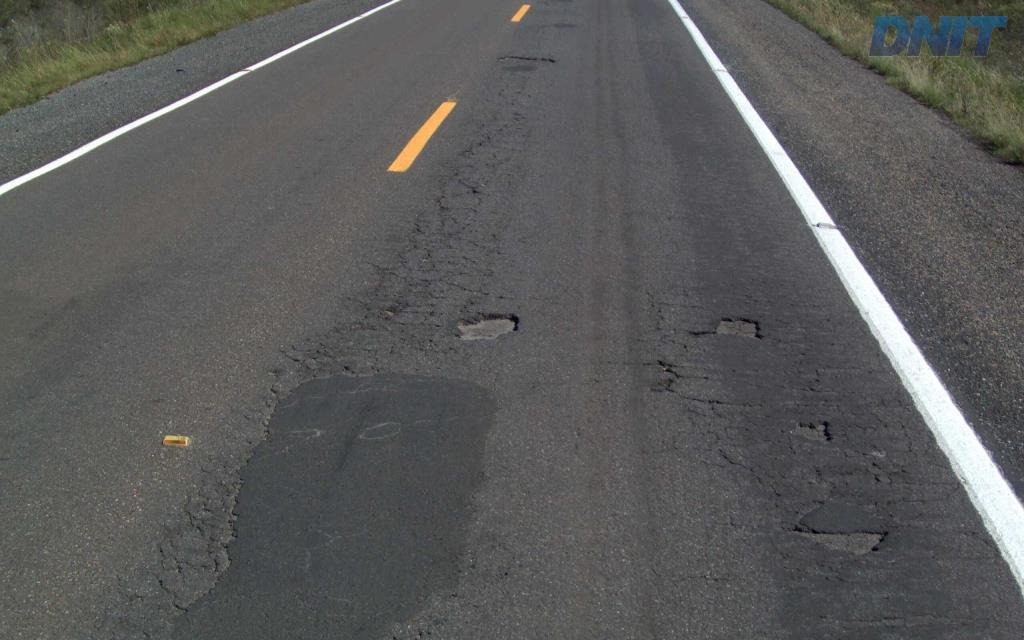pothole: (441, 298, 522, 348), (786, 521, 887, 559), (681, 309, 769, 340), (781, 412, 836, 444)
